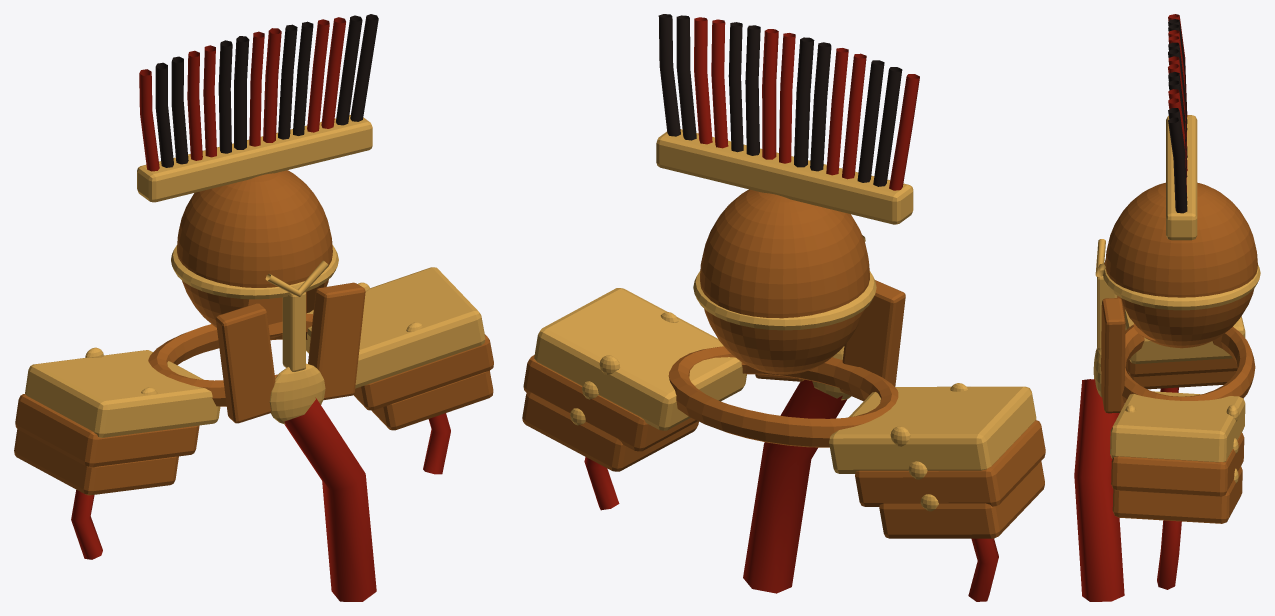
Rendered from captain_role_kit_LOD0.glb.
3 views of the same model, side by side, from view 1: azimuth 30°, elevation 25°; view 2: azimuth 150°, elevation 25°; view 3: azimuth 270°, elevation 25° (orthographic). The views are drawn at different scales.
Visible parts, largest first — view 1: CaptainCorinthianDome, CaptainLayeredPauldron, CaptainLayeredPauldron.003, CaptainCloakFall, CaptainTransverseCrestBox, CaptainLayeredPauldron.001, CaptainCheekGuard, CaptainCheekGuard.001, CaptainLayeredPauldron.002, CaptainLayeredPauldron.004, CaptainLayeredPauldron.005, CaptainCommandGorget (+20 smaller); view 2: CaptainCorinthianDome, CaptainLayeredPauldron.003, CaptainLayeredPauldron, CaptainTransverseCrestBox, CaptainCloakFall, CaptainCommandGorget, CaptainLayeredPauldron.001, CaptainLayeredPauldron.002, CaptainLayeredPauldron.004, CaptainLayeredPauldron.005, CaptainCheekGuard, CaptainLaurelBrowBand (+17 smaller); view 3: CaptainCorinthianDome, CaptainCloakFall, CaptainLayeredPauldron.003, CaptainLayeredPauldron.004, CaptainLayeredPauldron.005, CaptainCommandGorget, CaptainCheekGuard.001, CaptainTransverseCrestBox, CaptainLaurelBrowBand, CaptainLayeredPauldron, CaptainLayeredPauldron.001, CaptainLayeredPauldron.002 (+6 smaller).
Part boxes in pixels (bbox=[...]): CaptainCorinthianDome: bbox=[177, 170, 332, 338]; CaptainLayeredPauldron: bbox=[25, 350, 220, 437]; CaptainLayeredPauldron.003: bbox=[306, 267, 485, 388]; CaptainCloakFall: bbox=[284, 397, 376, 601]; CaptainTransverseCrestBox: bbox=[137, 115, 372, 202]; CaptainLayeredPauldron.001: bbox=[15, 394, 199, 467]; CaptainCheekGuard: bbox=[216, 303, 275, 423]; CaptainCheekGuard.001: bbox=[308, 282, 365, 400]; CaptainLayeredPauldron.002: bbox=[14, 429, 178, 495]; CaptainLayeredPauldron.004: bbox=[353, 334, 493, 410]; CaptainLayeredPauldron.005: bbox=[371, 370, 493, 430]; CaptainCommandGorget: bbox=[148, 313, 313, 406]; CaptainCorinthianDome: bbox=[700, 189, 869, 374]; CaptainLayeredPauldron.003: bbox=[534, 288, 746, 430]; CaptainLayeredPauldron: bbox=[829, 386, 1036, 473]; CaptainTransverseCrestBox: bbox=[656, 129, 913, 224]; CaptainCloakFall: bbox=[743, 379, 847, 593]; CaptainCommandGorget: bbox=[668, 346, 898, 447]; CaptainLayeredPauldron.001: bbox=[855, 420, 1045, 506]; CaptainLayeredPauldron.002: bbox=[879, 461, 1044, 538]; CaptainLayeredPauldron.004: bbox=[523, 355, 697, 451]; CaptainLayeredPauldron.005: bbox=[522, 392, 698, 471]; CaptainCheekGuard: bbox=[839, 280, 905, 401]; CaptainLaurelBrowBand: bbox=[693, 271, 876, 330]; CaptainCorinthianDome: bbox=[1105, 182, 1257, 348]; CaptainCloakFall: bbox=[1074, 379, 1124, 601]; CaptainLayeredPauldron.003: bbox=[1110, 391, 1245, 462]; CaptainLayeredPauldron.004: bbox=[1111, 432, 1244, 496]; CaptainLayeredPauldron.005: bbox=[1112, 466, 1242, 523]; CaptainCommandGorget: bbox=[1122, 325, 1255, 403]; CaptainCheekGuard.001: bbox=[1101, 298, 1125, 413]; CaptainTransverseCrestBox: bbox=[1166, 115, 1197, 240]; CaptainLaurelBrowBand: bbox=[1103, 265, 1260, 310]; CaptainLayeredPauldron: bbox=[1125, 309, 1245, 363]; CaptainLayeredPauldron.001: bbox=[1126, 358, 1237, 376]; CaptainLayeredPauldron.002: bbox=[1125, 365, 1236, 389].
Bounding box in the file's own units: 1.21 × 1.45 × 0.4764.
